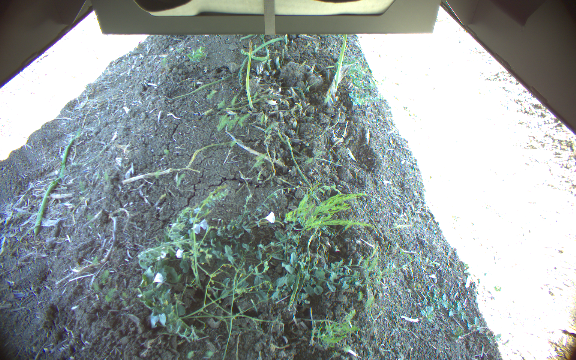aspa: (245, 39, 251, 94)
